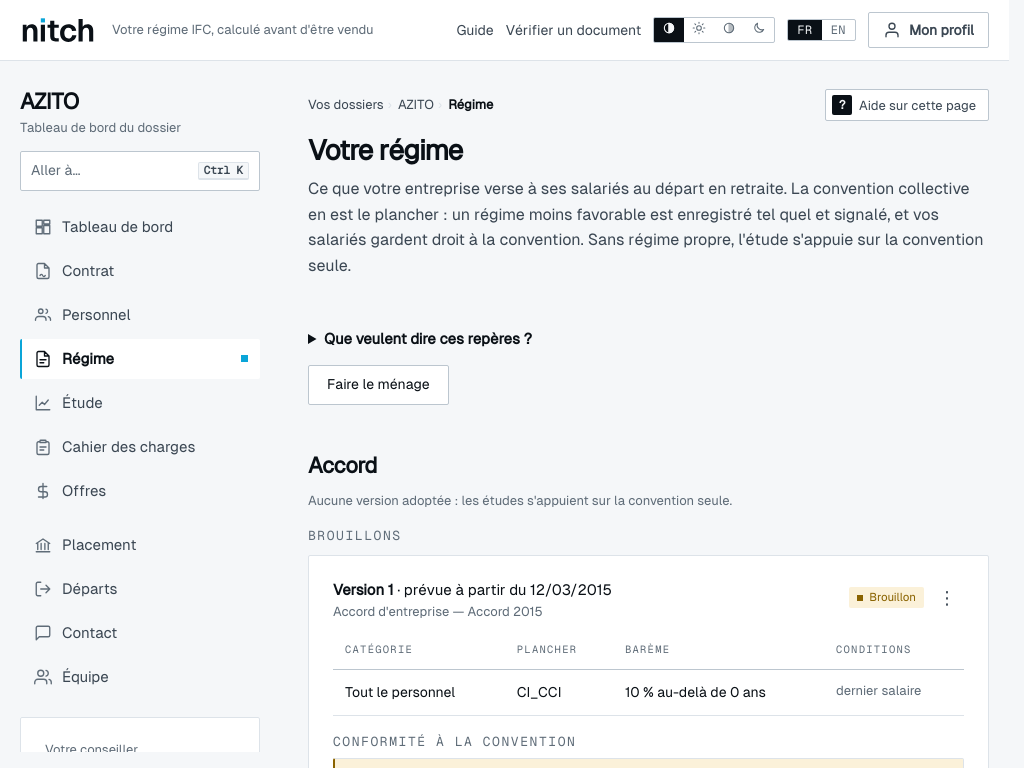
Scenario: l'adoption d'un régime › un régime sous la convention s'adopte seulement en en prenant acte
What coordinates should you click on to do the following:
click the button named "Actions sur la version 1"
I would click on:
 (947, 598)
Its box is [930,578,964,618].
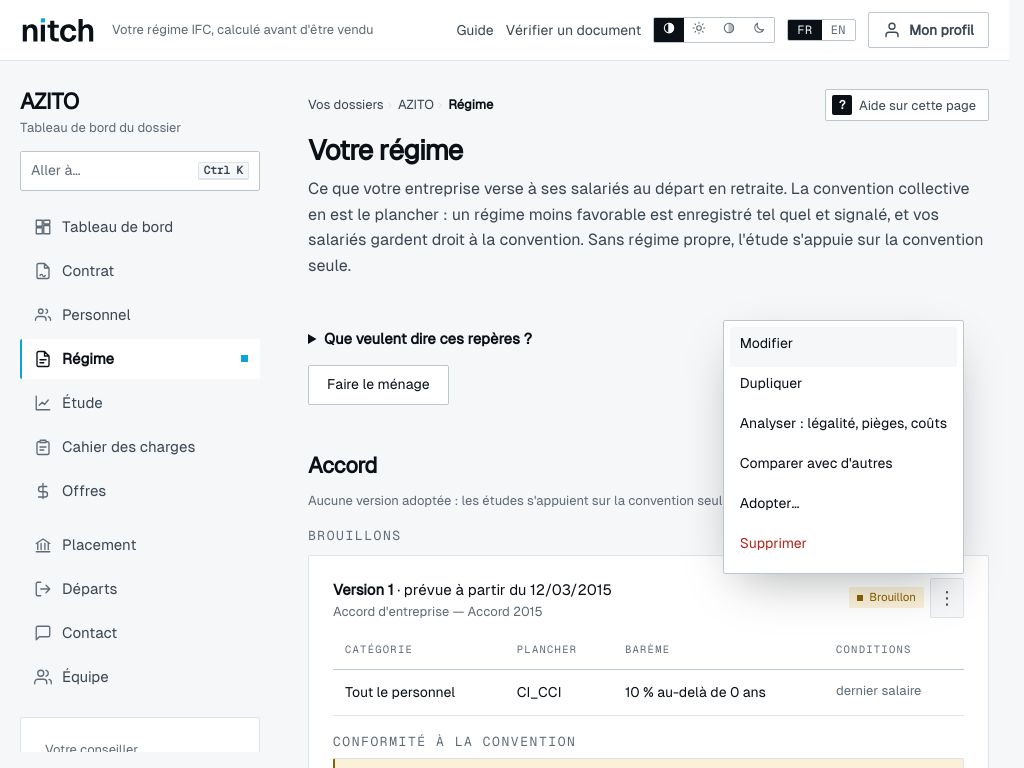
What coordinates should you click on to do the following:
click the menu item "Adopter…"
I would click on:
 (843, 506)
Its box is [730,486,957,526].
(page scrolled)
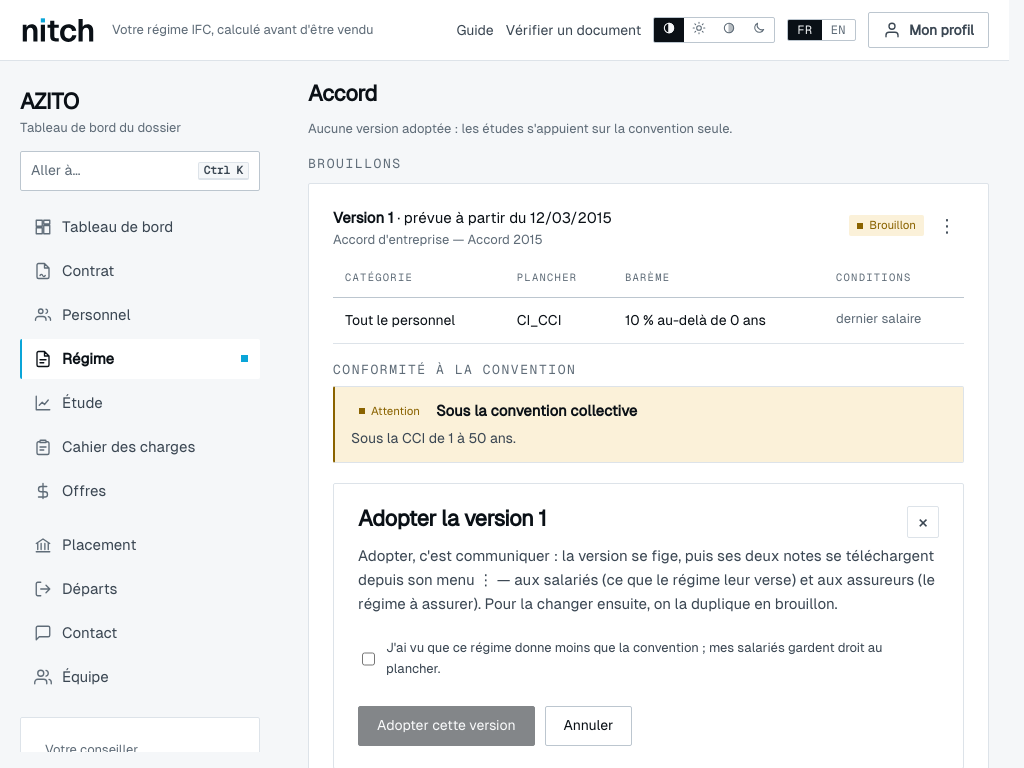
Now the button "Adopter cette version" is disabled, box [358,706,534,746]
Now the text "Adopter, c'est communiquer" is shown, box [358,547,935,612]
What coordinates should you click on to do the following:
click the checkbox labelled "donne moins que la convention"
I would click on:
 (368, 659)
Its box is [362,641,375,677].
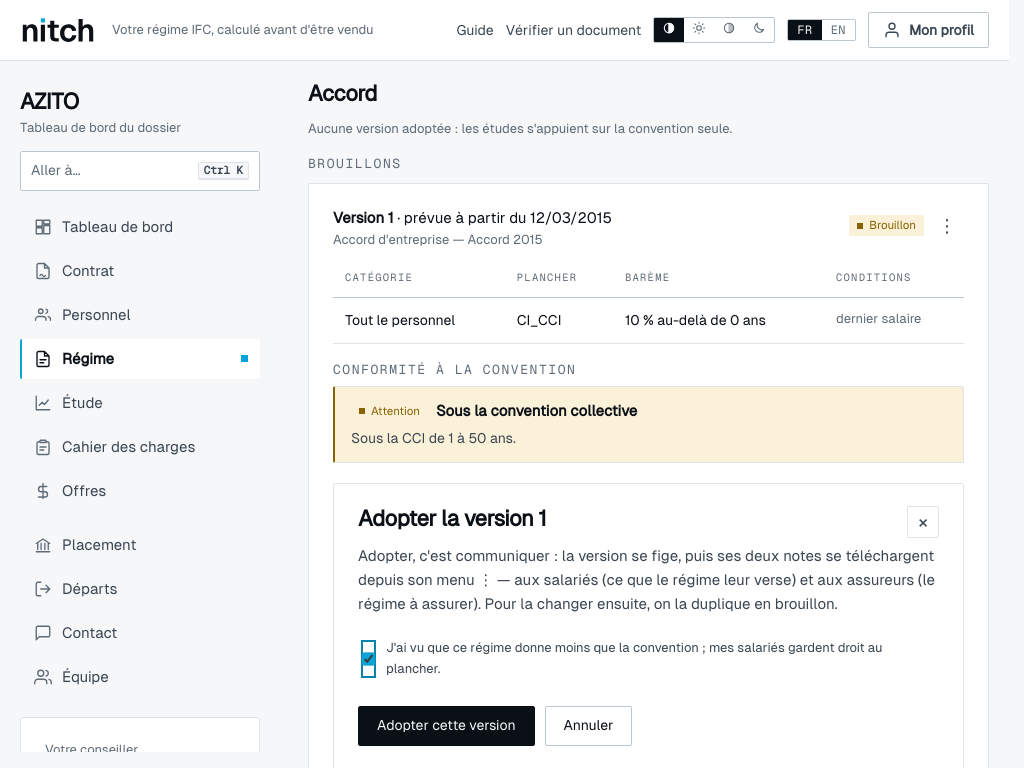
Now the button "Adopter cette version" is enabled, box [358,706,534,746]
